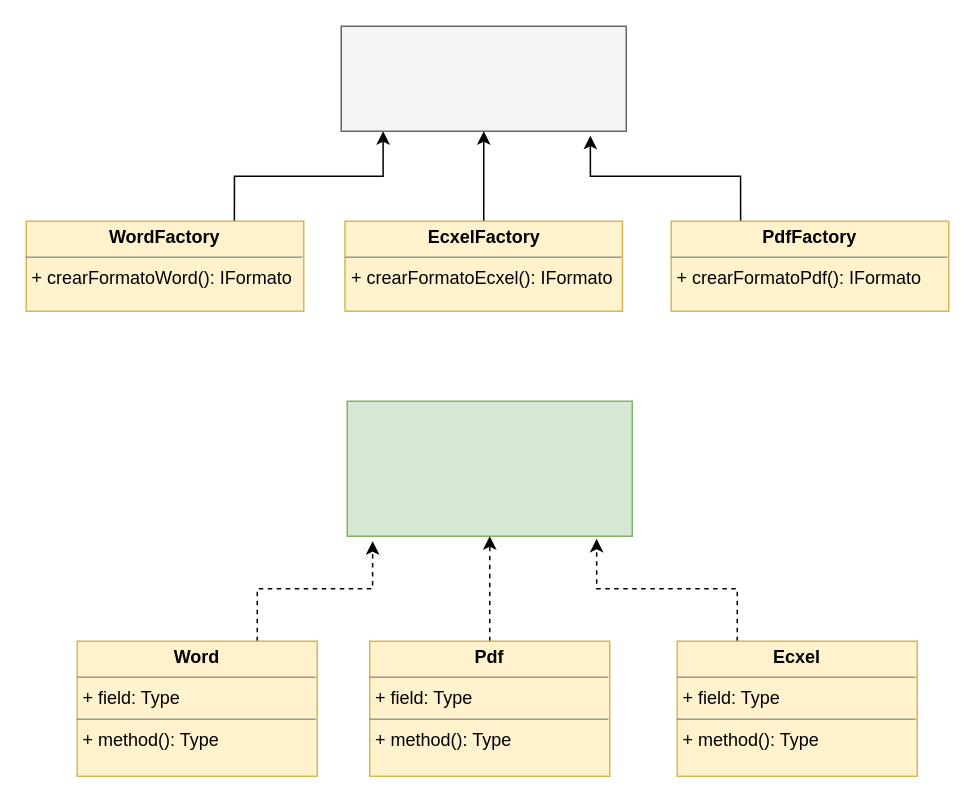
The diagram is 975 pixels wide and 803 high, and some of its shapes have lost their labels. Each missing label, with the box of its shape:
<<Interaface>> IFormato + abrir(): + cerrar(): +grabar():: (346, 400, 632, 536)
<Abstract> FormatoFactory + crearFormato(): IFormato: (340, 25, 626, 131)
